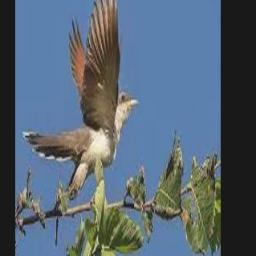Cuckoo: (22, 0, 140, 196)
